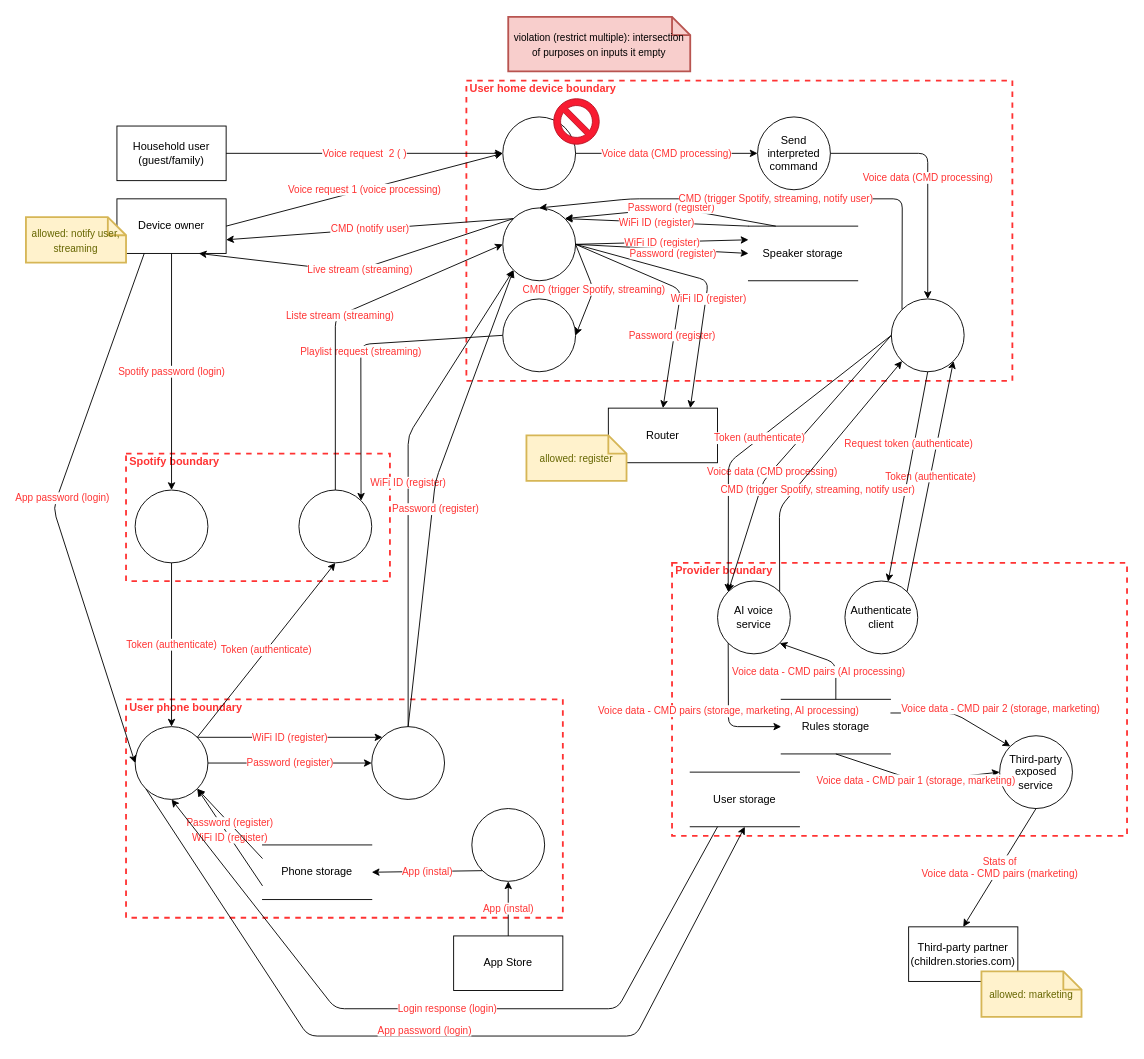
Some shapes in this 1144 by 1059 pixel diagram are drawn without their labels. Each missing label, with the box of its shape:
AI speaker core process: (502, 207, 576, 281)
Authenticate Spotify user: (134, 489, 208, 563)
Communication handeler: (890, 298, 964, 372)
Determine playlist: (502, 298, 576, 372)
Install app on phone: (471, 808, 545, 881)
Keyword listener and signal processor: (502, 116, 576, 190)
Register speaker: (371, 726, 445, 799)
Smart speaker app login: (134, 726, 208, 799)
Streaming API: (298, 489, 372, 563)
